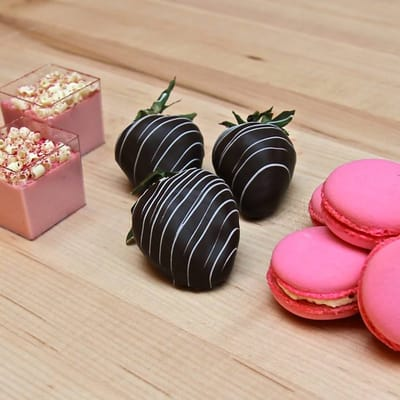curry: (0, 16, 395, 396)
sandwich: (0, 65, 100, 120), (0, 125, 73, 187)
